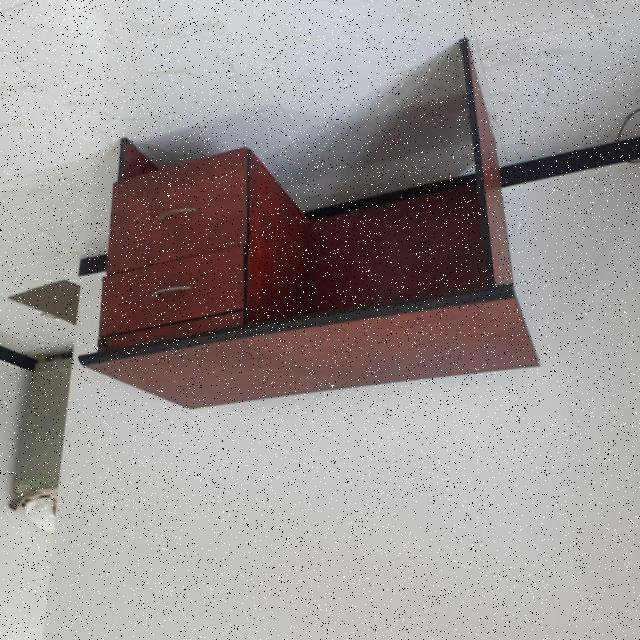mobile-phone: (69, 37, 544, 416)
